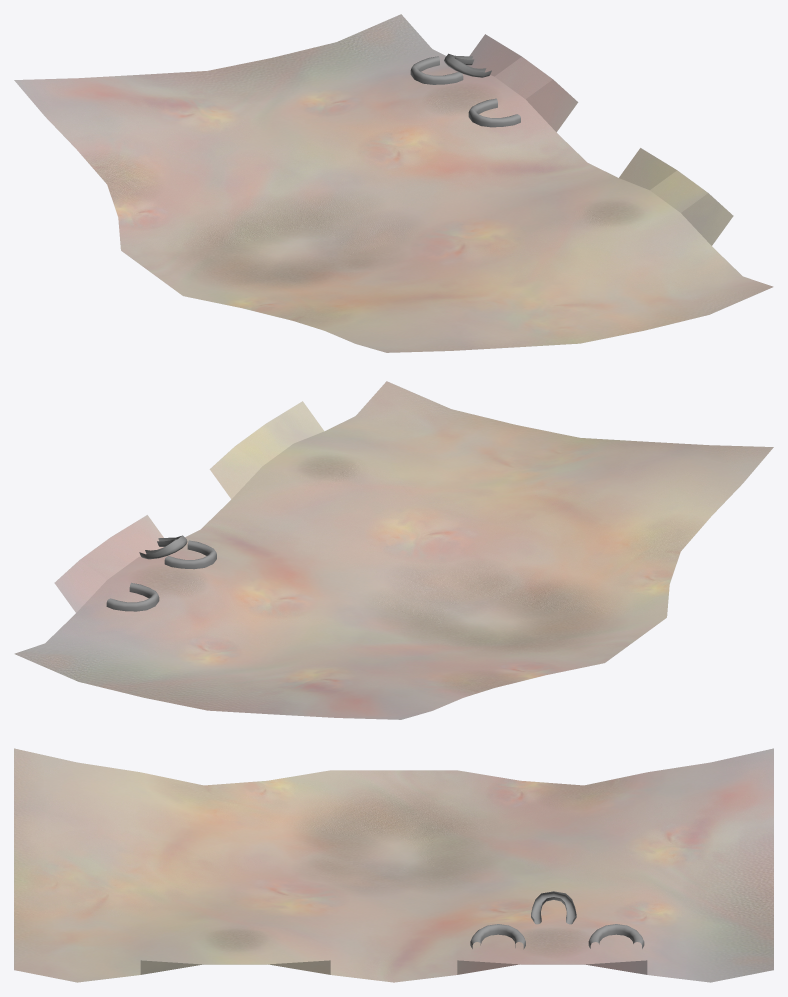
Rendered from Ground&Shild.FBX.
3 renders of one model, top to bottom at view 1: azimuth 30°, elevation 25°; view 2: azimuth 150°, elevation 25°; view 3: azimuth 270°, elevation 25°, orthographic.
Visible parts, largest first — view 1: Ground, Lower-shield, Lower_shield-0, Upper-shield; view 2: Ground, Lower-shield, Lower_shield-0, Upper-shield; view 3: Ground, Upper-shield, Lower_shield-0, Lower-shield.
Boxes of the visible parts, left/top/right/bottom form: Ground: left=14, top=14, right=773, bottom=352; Lower-shield: left=410, top=56, right=463, bottom=84; Lower_shield-0: left=468, top=98, right=520, bottom=127; Upper-shield: left=444, top=53, right=491, bottom=77; Ground: left=14, top=381, right=773, bottom=719; Lower-shield: left=106, top=582, right=159, bottom=611; Lower_shield-0: left=164, top=540, right=216, bottom=569; Upper-shield: left=139, top=535, right=187, bottom=559; Ground: left=14, top=748, right=773, bottom=982; Upper-shield: left=531, top=891, right=576, bottom=924; Lower_shield-0: left=470, top=924, right=525, bottom=949; Lower-shield: left=588, top=924, right=644, bottom=948.
Size of the model in its own units: 6816 by 1110 by 9498.
Materials: 2 (1 with a texture image).
